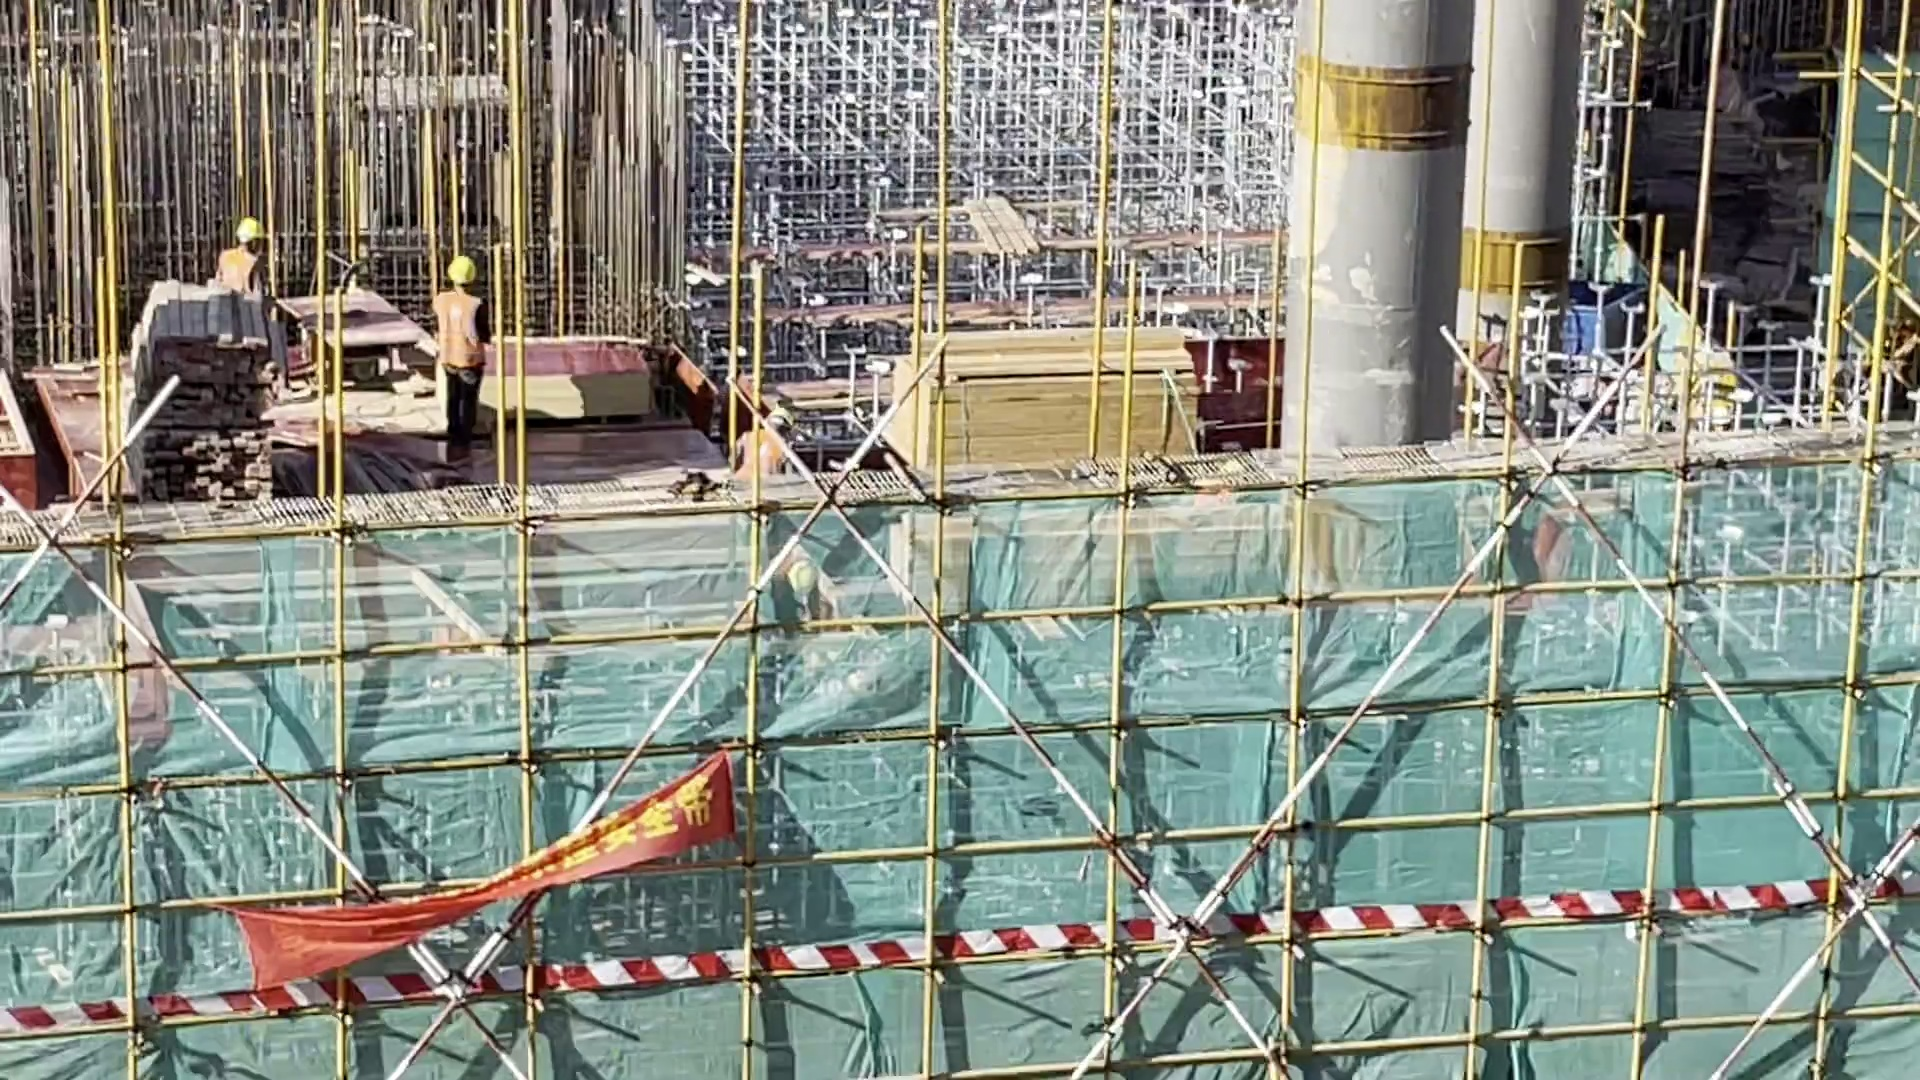board: (470, 334, 659, 415)
helmet: (230, 208, 267, 246), (756, 393, 792, 429), (445, 257, 478, 283)
person: (423, 241, 499, 434), (215, 212, 277, 322), (736, 390, 803, 486)
slogan: (170, 753, 758, 980)
vest: (424, 286, 489, 385), (213, 241, 272, 305), (737, 433, 785, 485)
wood: (854, 315, 1251, 530), (103, 267, 278, 527)
